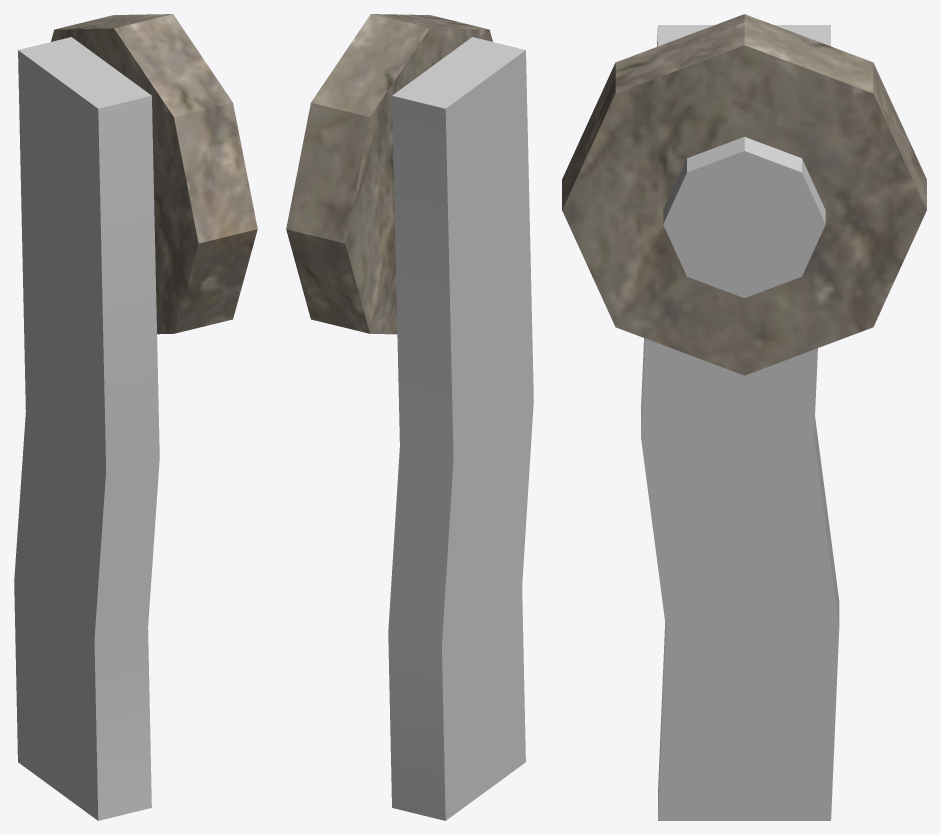
File: seesawSupport.fbx
3 views of the same model, side by side, from view 1: azimuth 30°, elevation 25°; view 2: azimuth 150°, elevation 25°; view 3: azimuth 270°, elevation 25° (orthographic). The views are drawn at different scales.
Visible parts, largest first — view 1: polySurface48; view 2: polySurface48; view 3: polySurface48.
Boxes of the visible parts, <box> form: polySurface48: <box>14,14,257,820</box>; polySurface48: <box>286,14,533,820</box>; polySurface48: <box>562,14,926,820</box>.
Size of the model in its own units: 0.2573 by 1.3 by 0.5309.
